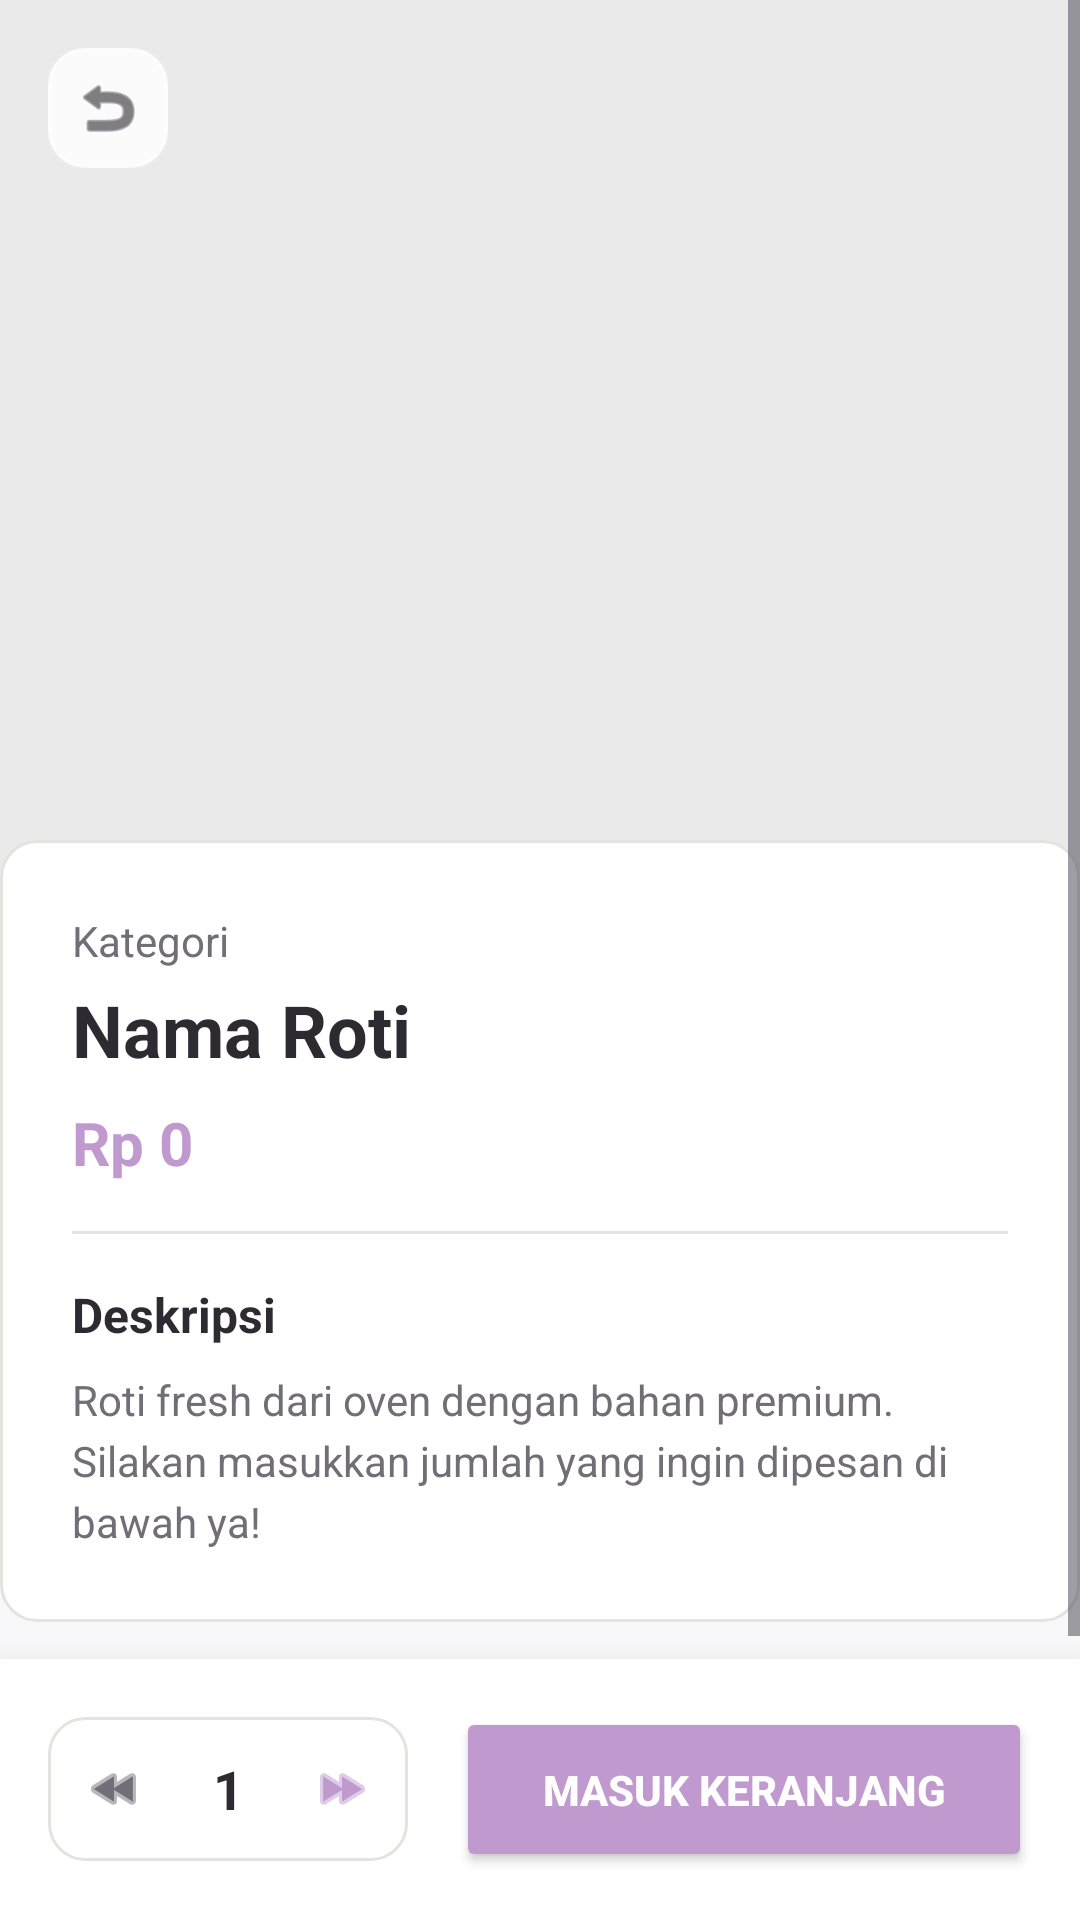

Icons on this 1080px×1920px Android screen, each with the point to tap as [x,y]:
revert: [109,108]
rew: [113,1789]
